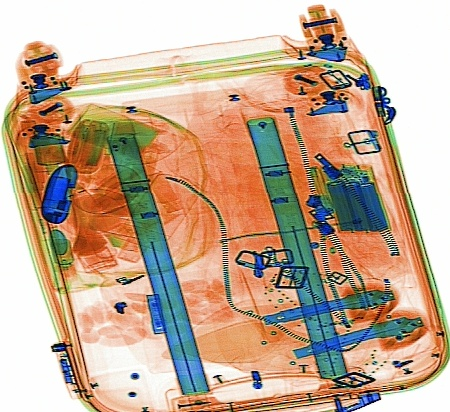powerbank: (314, 161, 394, 238)
